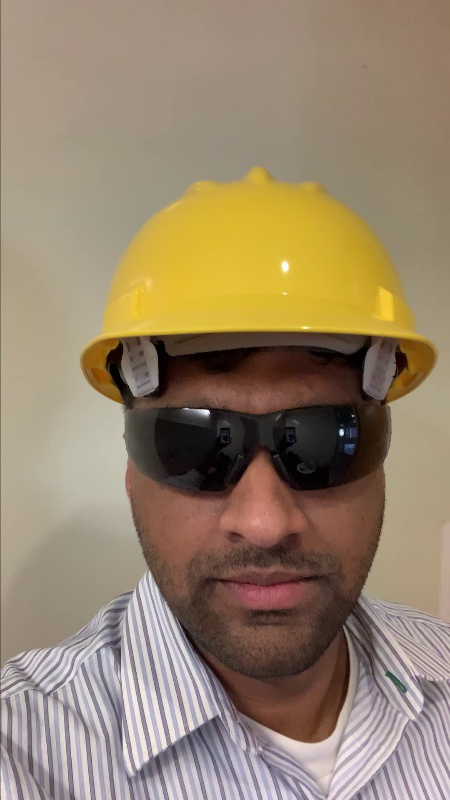glasses: (116, 399, 408, 503)
helmet: (76, 163, 443, 409)
